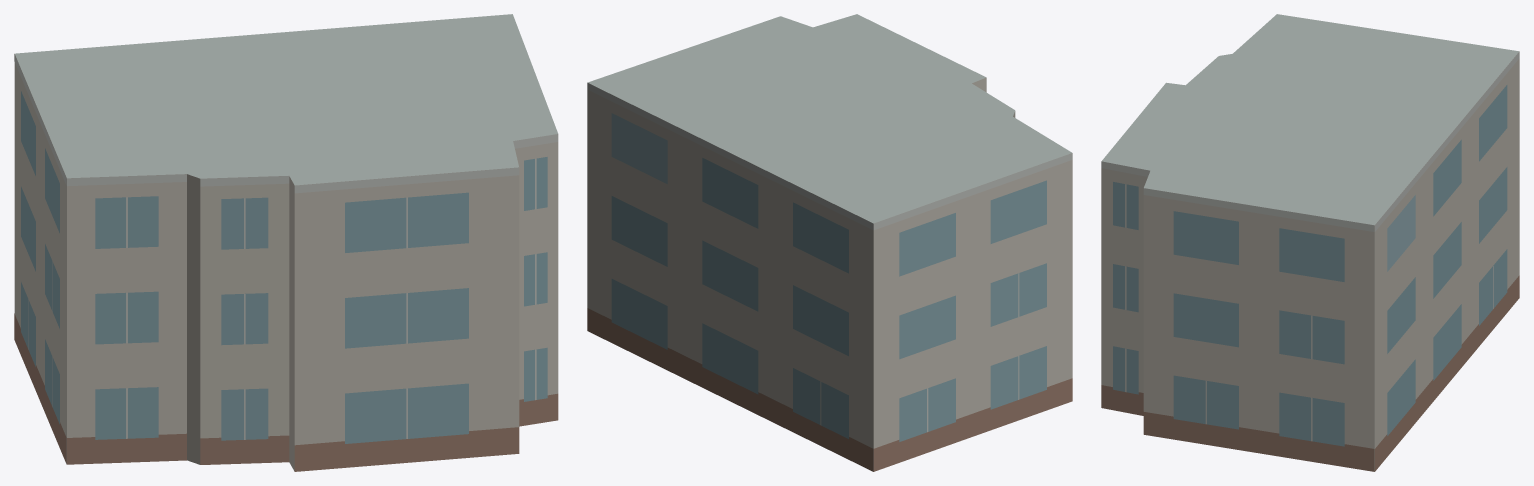
Rendered from survey-upis-32802111.glb.
3 views of the same model, side by side, from view 1: azimuth 30°, elevation 25°; view 2: azimuth 150°, elevation 25°; view 3: azimuth 270°, elevation 25° (orthographic). The views are drawn at different scales.
Visible parts, largest first — view 1: survey-upis-32802111.tmp; view 2: survey-upis-32802111.tmp; view 3: survey-upis-32802111.tmp.
Boxes of the visible parts, box(x1,y1,x2,y2) form: survey-upis-32802111.tmp: box(14, 14, 558, 471); survey-upis-32802111.tmp: box(587, 14, 1072, 471); survey-upis-32802111.tmp: box(1101, 14, 1519, 471).
Bounding box in the file's own units: 16.18 × 8.8 × 13.53.
